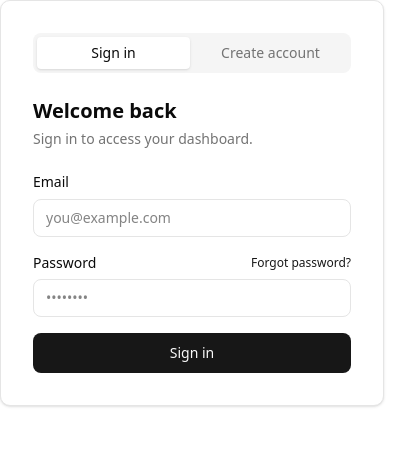
LoginForm › shows the auth error without redirecting on failure
This screenshot has width=401, height=460.
Type "user@example.com" into the field labelled "Email" at point(192, 218), box [33,199,351,237]
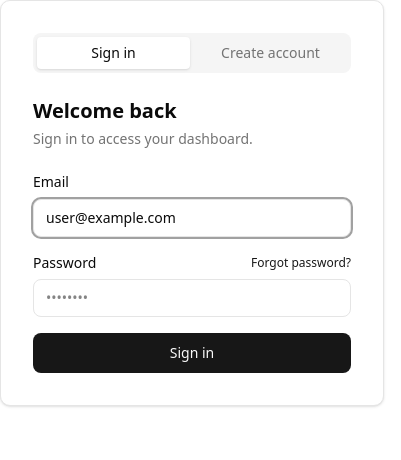
Type "wrongpassword" into the password field labelled "Password" at point(192, 298), box [33,279,351,317]
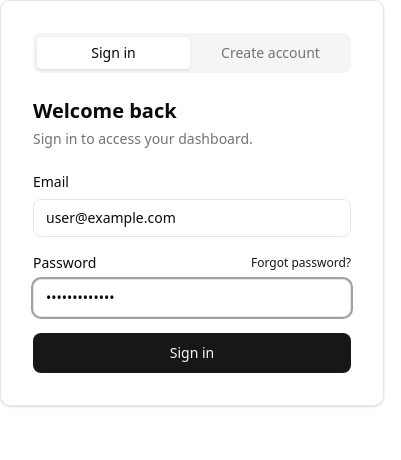
Click the button "Sign in" below "Forgot password?" at point(192, 353), box [33,333,351,373]
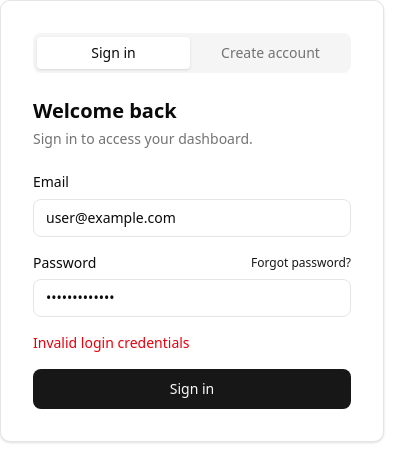
Result: the message reads "Invalid login credentials" at [33,333,190,352]
